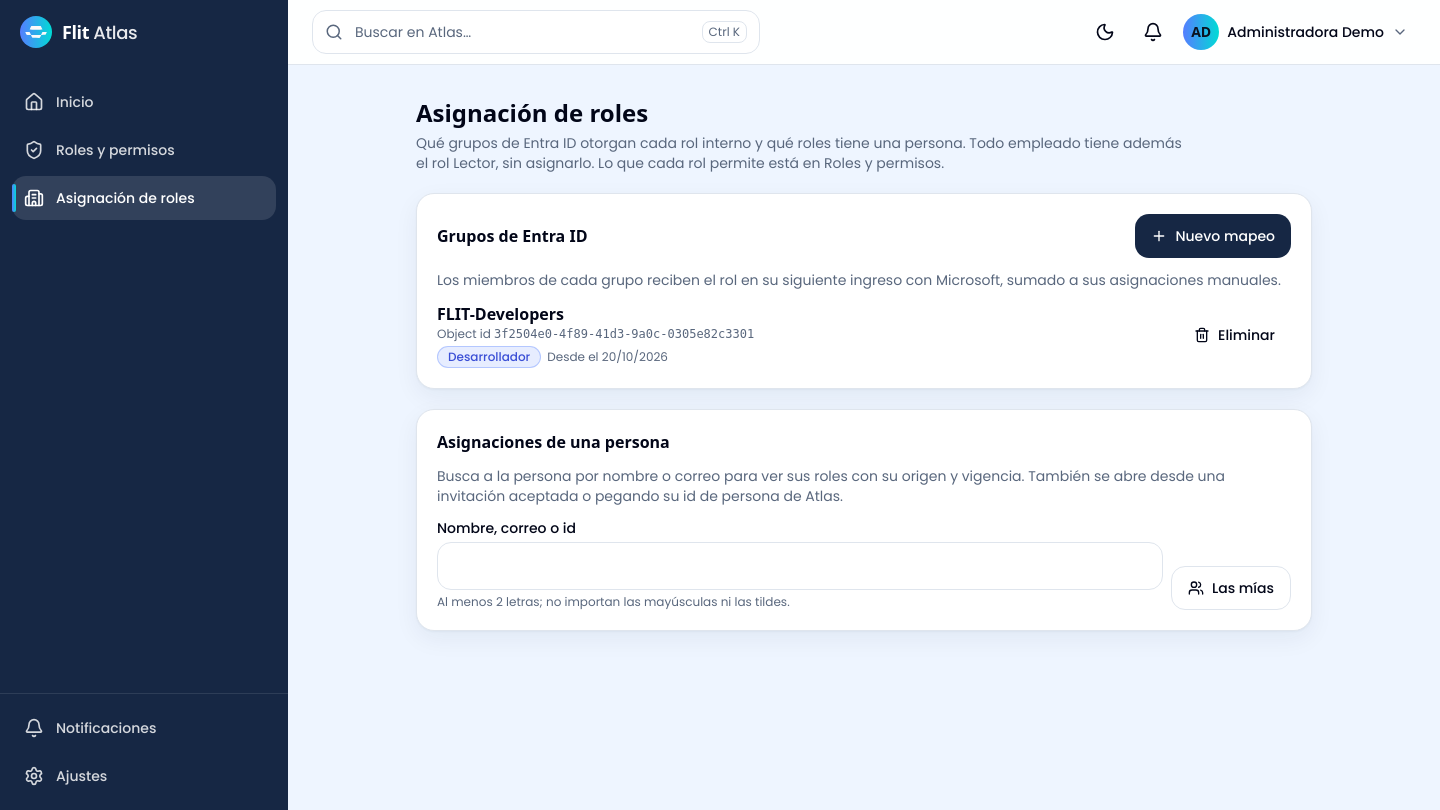
it: pantalla de asignación de roles › elimina un mapeo solo después de confirmar
The image size is (1440, 810).
Click the button with aria-label "Eliminar el mapeo de FLIT-Developers" at (1235, 335), box top-left (1178, 313), bottom-right (1291, 357)
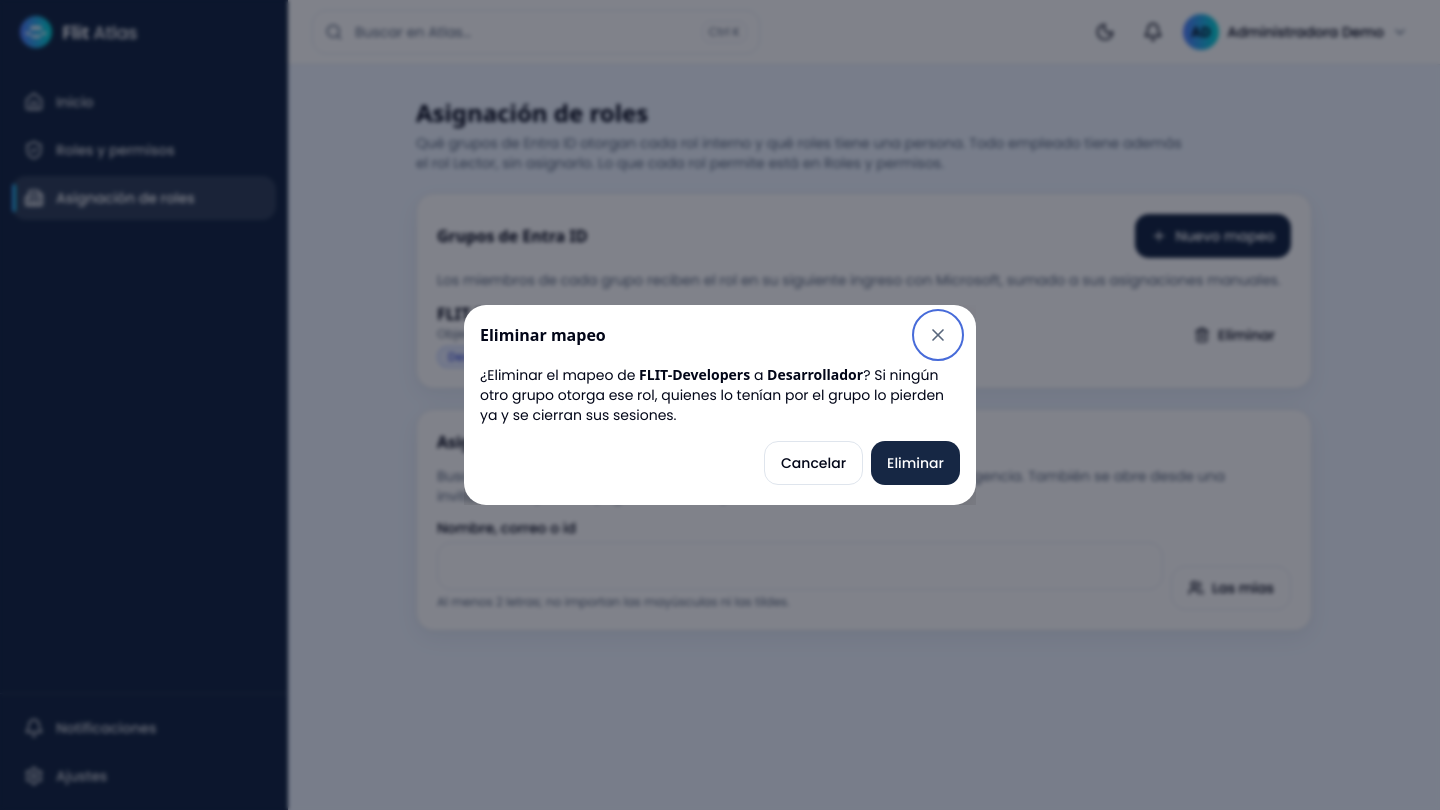
Expected: the dialog "Eliminar mapeo" shows "se cierran sus sesiones", top-left (480, 365), bottom-right (944, 425)
Click the button "Eliminar" at (916, 463), box top-left (871, 441), bottom-right (960, 485)
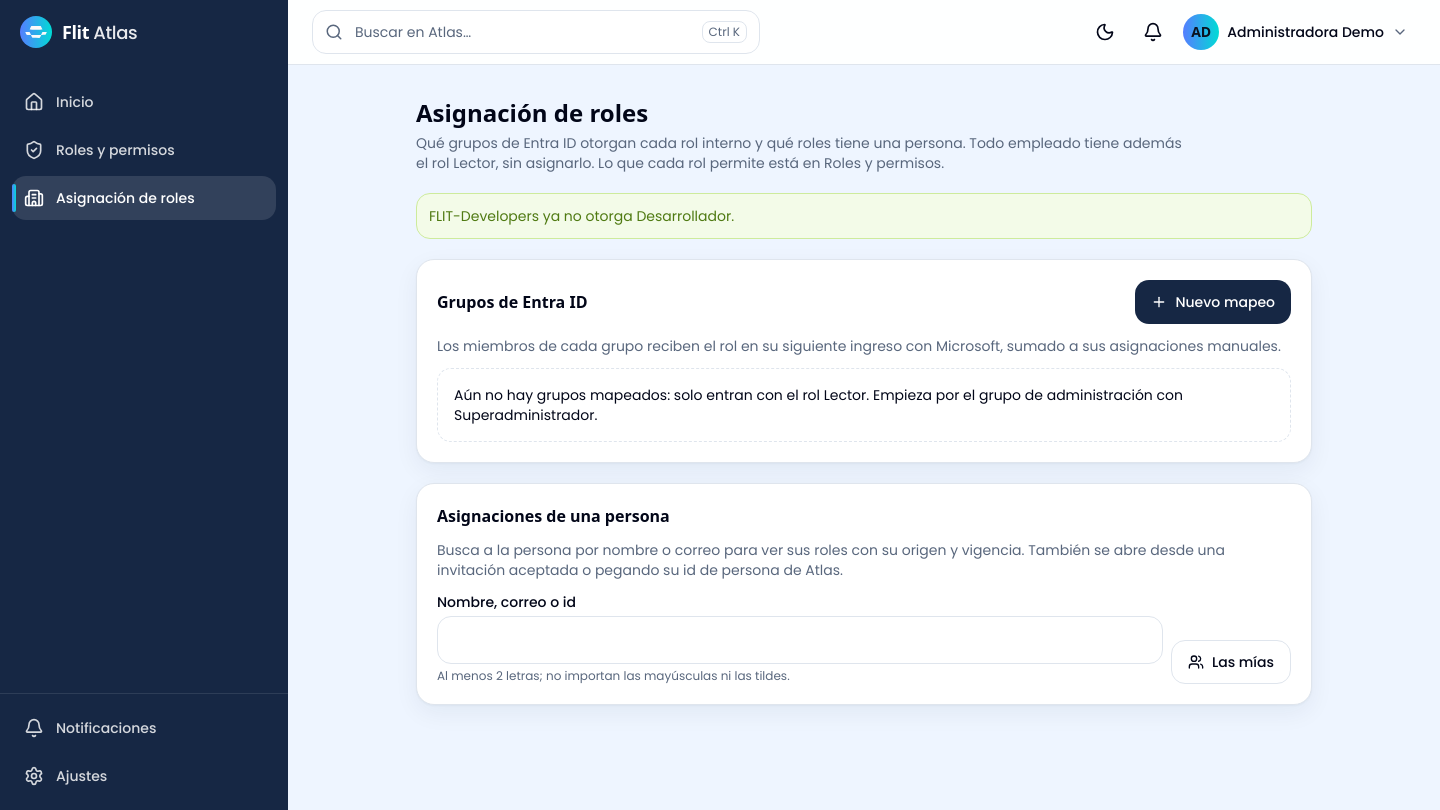
Expected: the message reads "FLIT-Developers ya no otorga Desarrollador.", top-left (429, 206), bottom-right (734, 226)
